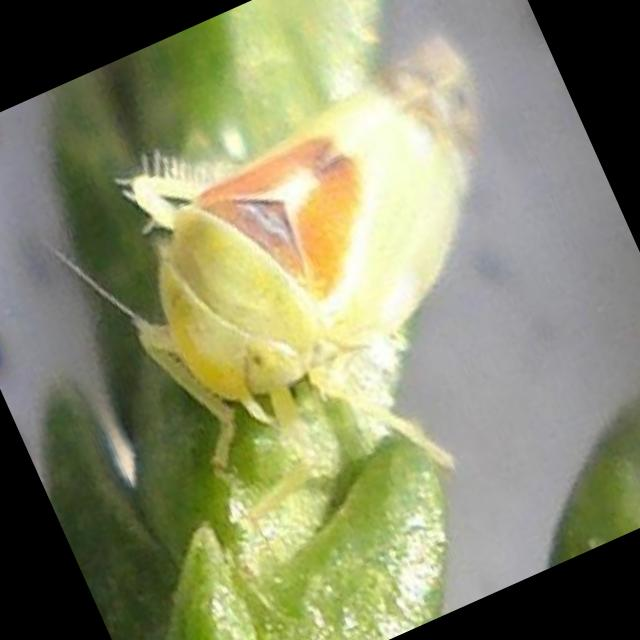green-leafhopper: (127, 30, 478, 528)
